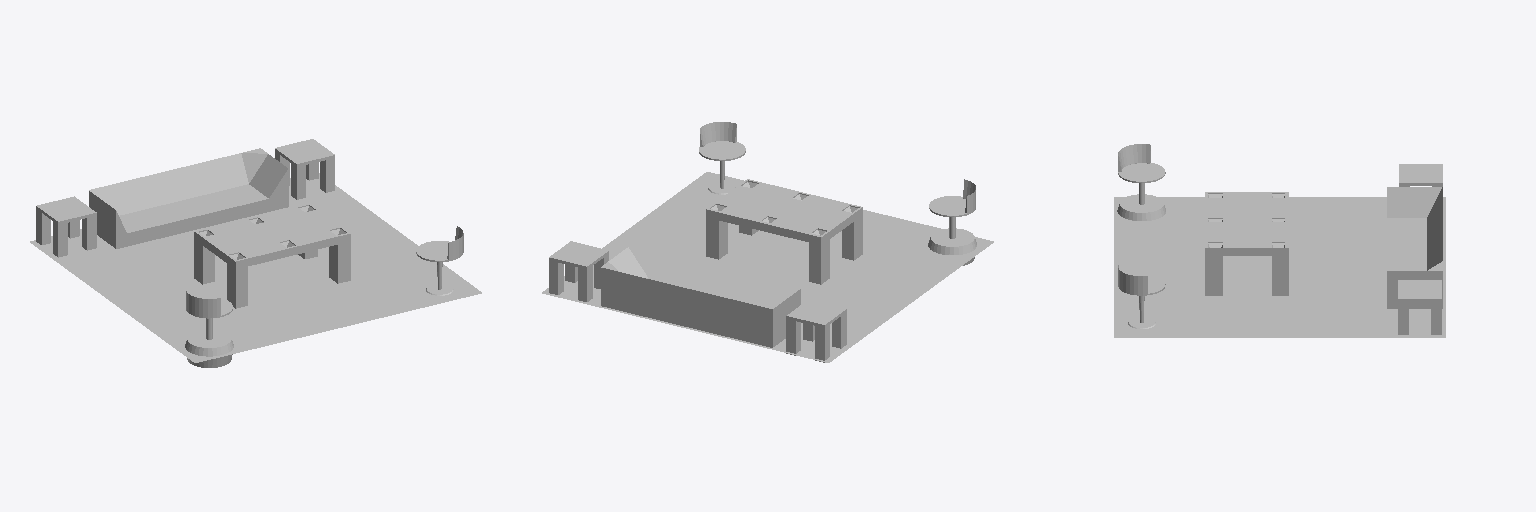
Rendered from basicroom.obj.
The picture shows the model from 3 angles: view 1: azimuth 30°, elevation 25°; view 2: azimuth 150°, elevation 25°; view 3: azimuth 270°, elevation 25°; orthographic projection.
Visible parts, largest first — view 1: Plane, Plane.001; view 2: Plane, Plane.001; view 3: Plane.001, Plane.
Boxes of the visible parts, x1,y1,x2,y2 form: Plane: [36, 139, 463, 367]; Plane.001: [30, 173, 481, 362]; Plane: [549, 122, 976, 362]; Plane.001: [542, 172, 993, 362]; Plane.001: [1114, 197, 1445, 337]; Plane: [1117, 144, 1442, 334].
Bounding box in the file's own units: 15 × 4.55 × 15.